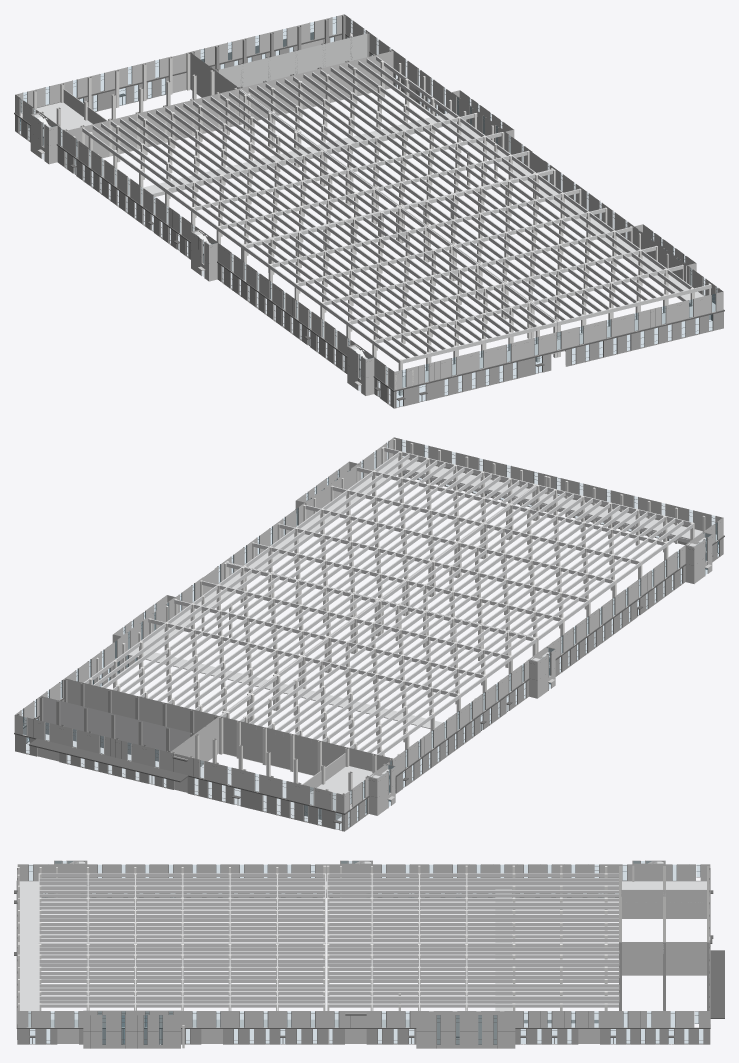
The model's file is source-lower.glb.
3 renders of one model, top to bottom at view 1: azimuth 30°, elevation 25°; view 2: azimuth 150°, elevation 25°; view 3: azimuth 270°, elevation 25°, orthographic. The views are drawn at different scales.
Parts seen in each view (by area): view 1: src_lower_7, src_lower_3, src_lower_8, src_lower_1, src_lower_0, src_lower_2, src_lower_9; view 2: src_lower_7, src_lower_3, src_lower_8, src_lower_1, src_lower_0, src_lower_2, src_lower_9; view 3: src_lower_7, src_lower_3, src_lower_1, src_lower_0, src_lower_8, src_lower_2, src_lower_5, src_lower_9, src_lower_4.
Part boxes in pixels (x1,y1,x2,y2): src_lower_7: [21, 33, 715, 387]; src_lower_3: [15, 14, 723, 395]; src_lower_8: [16, 52, 710, 395]; src_lower_1: [15, 35, 723, 408]; src_lower_0: [14, 16, 724, 407]; src_lower_2: [20, 17, 714, 406]; src_lower_9: [190, 14, 393, 88]; src_lower_7: [43, 447, 716, 810]; src_lower_3: [14, 437, 723, 819]; src_lower_8: [73, 439, 705, 830]; src_lower_1: [15, 474, 723, 831]; src_lower_0: [14, 439, 724, 830]; src_lower_2: [22, 440, 718, 829]; src_lower_9: [16, 678, 218, 787]; src_lower_7: [19, 861, 706, 1027]; src_lower_3: [17, 860, 710, 1048]; src_lower_1: [17, 892, 710, 1044]; src_lower_0: [14, 861, 724, 1044]; src_lower_8: [17, 865, 709, 1048]; src_lower_2: [29, 861, 702, 1043]; src_lower_5: [57, 1011, 599, 1043]; src_lower_9: [619, 942, 709, 1010]; src_lower_4: [83, 1011, 640, 1048].
Bounding box in the file's own units: 102 × 10.2 × 197.
